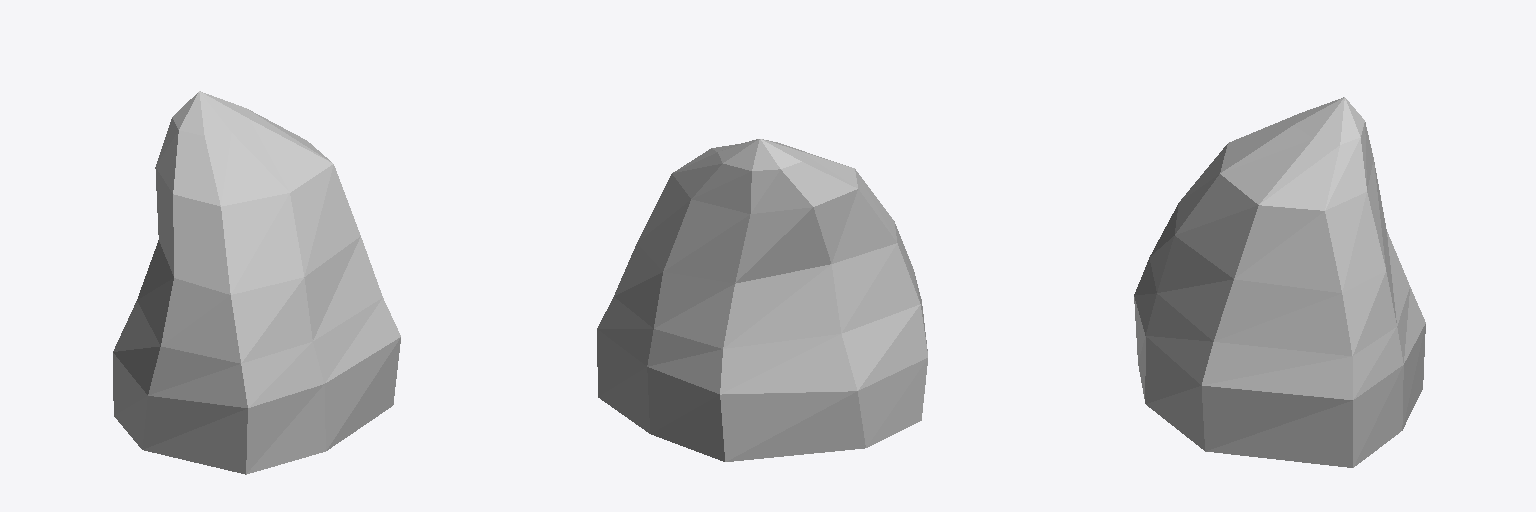
File: Woh_Asset_SmallBoulder.obj
3 views of the same model, side by side, from view 1: azimuth 30°, elevation 25°; view 2: azimuth 150°, elevation 25°; view 3: azimuth 270°, elevation 25° (orthographic).
Parts seen in each view (by area): view 1: WOH_Asset_Small_Boulder1; view 2: WOH_Asset_Small_Boulder1; view 3: WOH_Asset_Small_Boulder1.
Part boxes in pixels (x1,y1,x2,y2): WOH_Asset_Small_Boulder1: (113, 91, 400, 474); WOH_Asset_Small_Boulder1: (597, 139, 927, 461); WOH_Asset_Small_Boulder1: (1134, 97, 1425, 467).
Bounding box in the file's own units: 5.49 × 5.75 × 5.17.